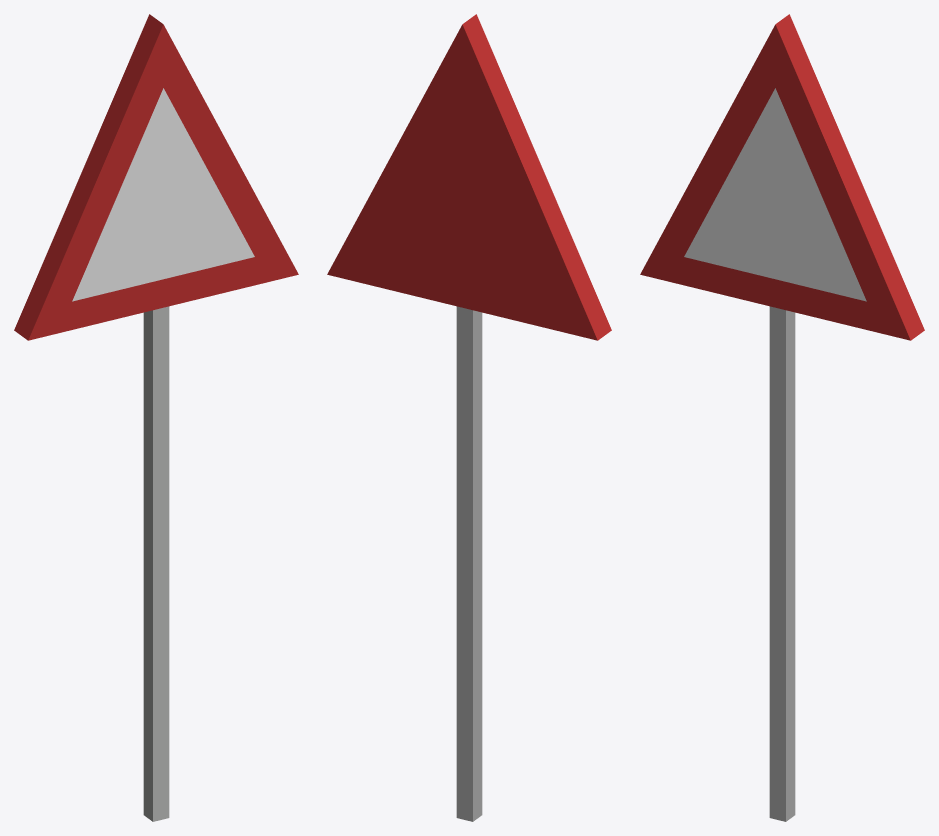
The model's file is Road_Sign_3.fbx.
3 views of the same model, side by side, from view 1: azimuth 30°, elevation 25°; view 2: azimuth 150°, elevation 25°; view 3: azimuth 330°, elevation 25° (orthographic).
Visible parts, largest first — view 1: Road_Sign_3; view 2: Road_Sign_3; view 3: Road_Sign_3.
Boxes of the visible parts, x1,y1,x2,y2 form: Road_Sign_3: (14, 14, 298, 821); Road_Sign_3: (327, 14, 611, 821); Road_Sign_3: (640, 14, 924, 821).
Bounding box in the file's own units: 1.23 × 3.45 × 0.1107.
Materials: 1 (1 with a texture image).
